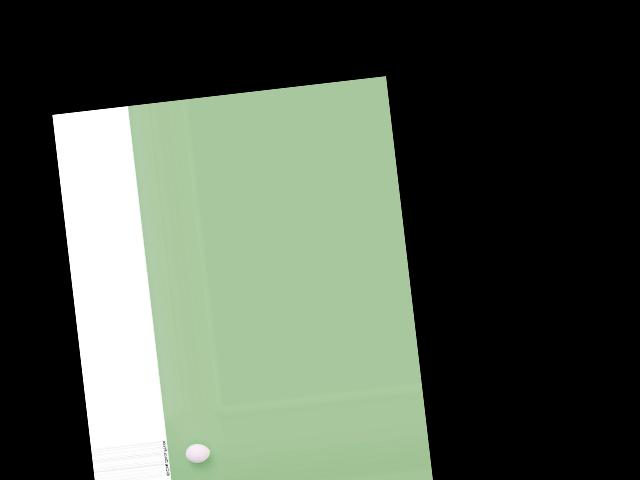egg: (184, 442, 210, 463)
